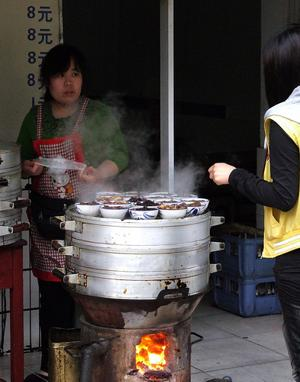person: (17, 44, 128, 382)
